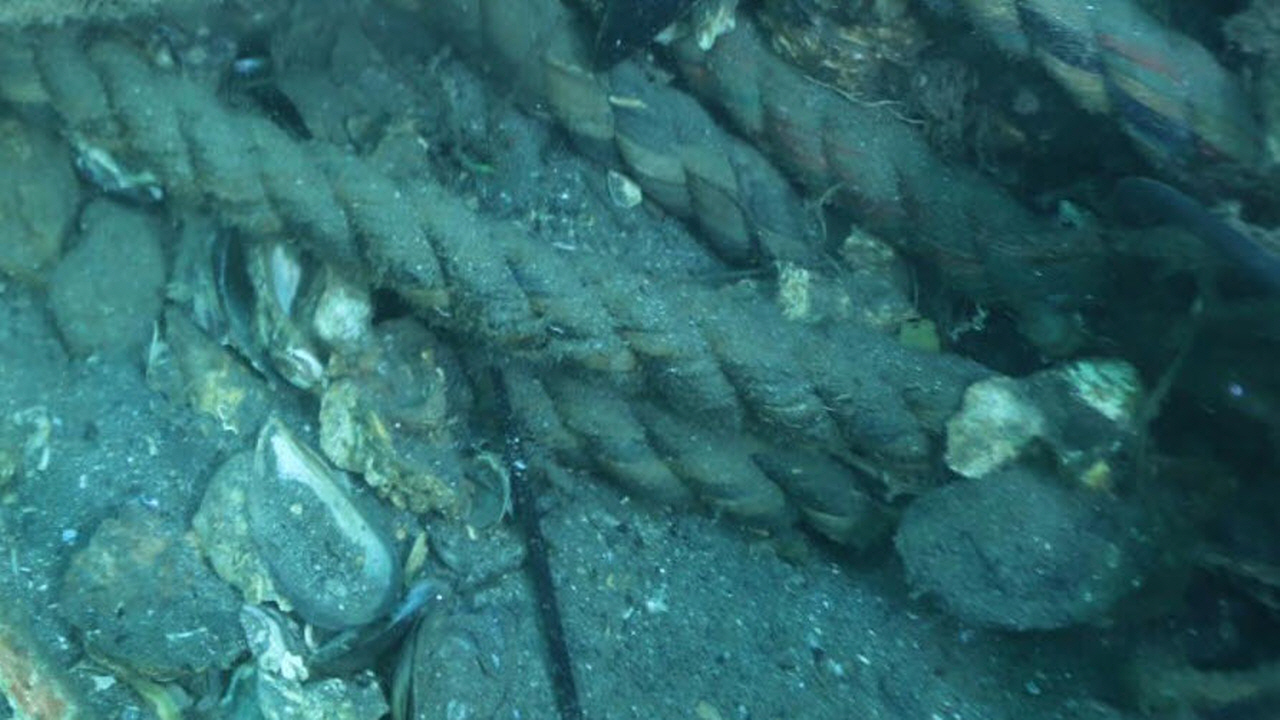bundle of ropes: (0, 0, 1280, 554)
